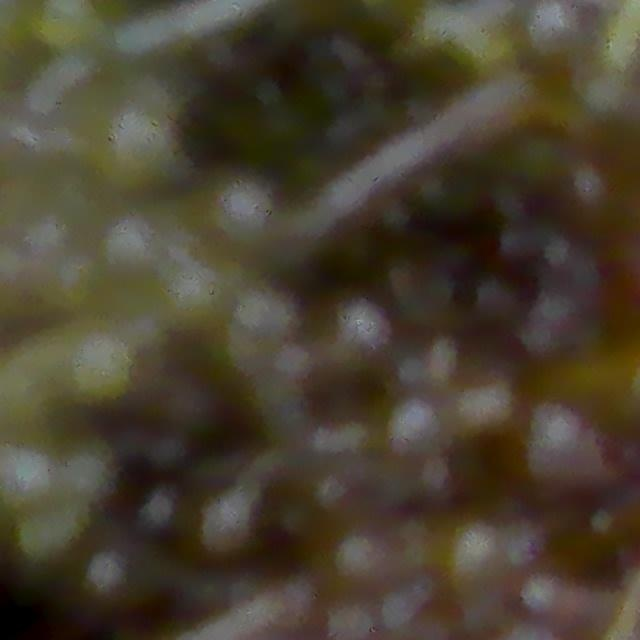SeaGrape: (506, 0, 610, 76), (204, 186, 295, 264), (525, 407, 602, 495), (190, 497, 264, 564), (71, 556, 137, 622), (334, 296, 397, 363), (327, 527, 395, 578), (392, 392, 443, 455), (439, 541, 504, 589)
